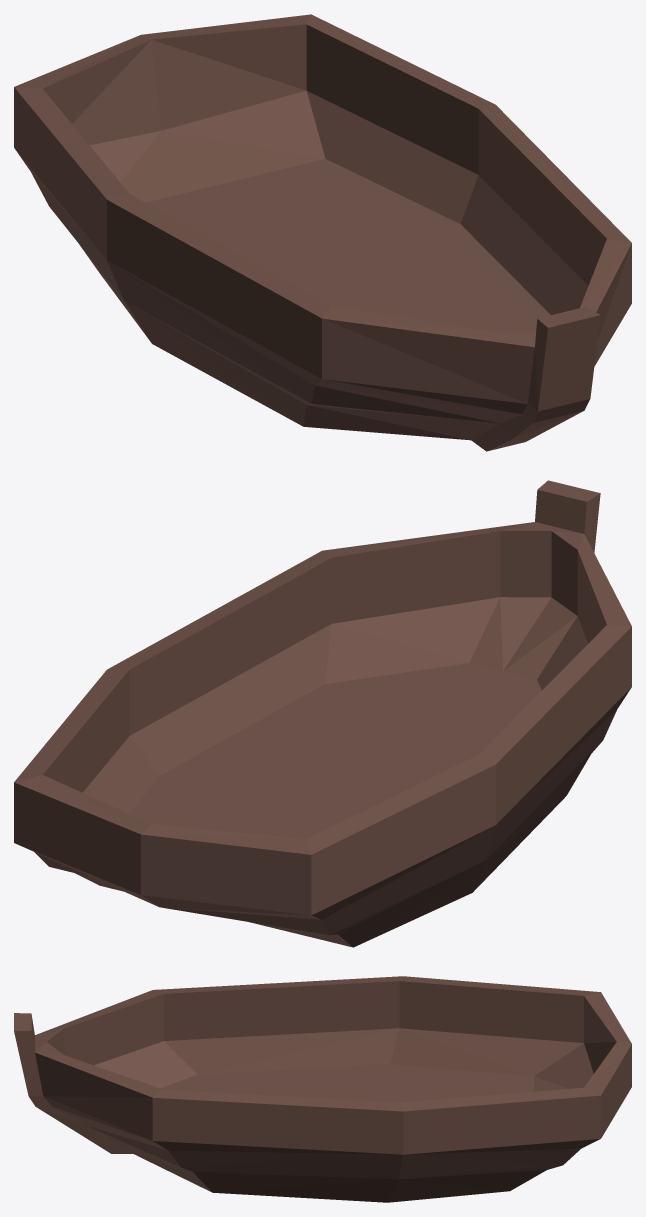
File: boat.glb
3 renders of one model, top to bottom at view 1: azimuth 30°, elevation 25°; view 2: azimuth 150°, elevation 25°; view 3: azimuth 270°, elevation 25°, orthographic. The views are drawn at different scales.
Parts seen in each view (by area): view 1: Boat; view 2: Boat; view 3: Boat.
Boxes of the visible parts, x1,y1,x2,y2 form: Boat: [14, 14, 631, 451]; Boat: [14, 480, 631, 947]; Boat: [14, 976, 631, 1202].
Bounding box in the file's own units: 4.67 × 2.01 × 9.01.
